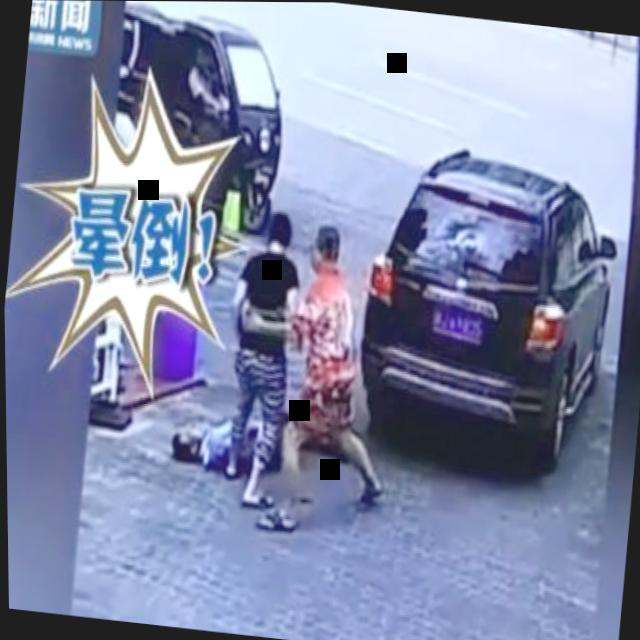Fall-Detected: (151, 374, 305, 492)
